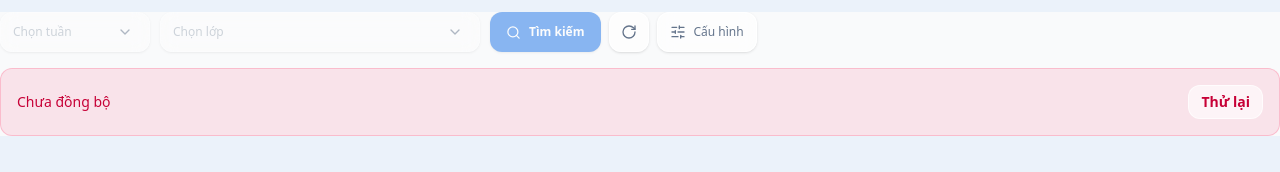
Scenario: TimetableLookup › reloads after synchronization and allows retrying a missing initial catalog
Check: the message shows "Chưa đồng bộ", box [17, 92, 110, 111]
Click the button named "Làm mới danh mục" at (628, 32), box [608, 12, 648, 52]
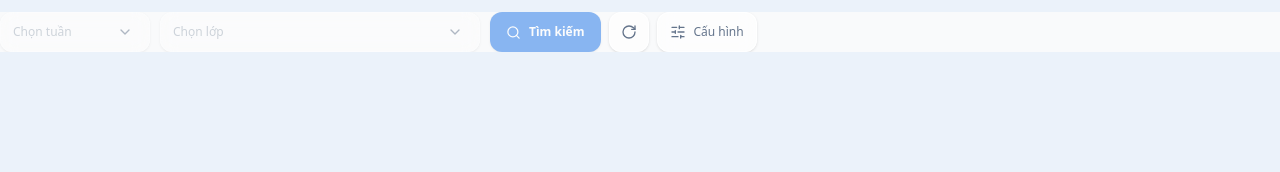
Check: the message "Chưa đồng bộ Thử lại" is gone
